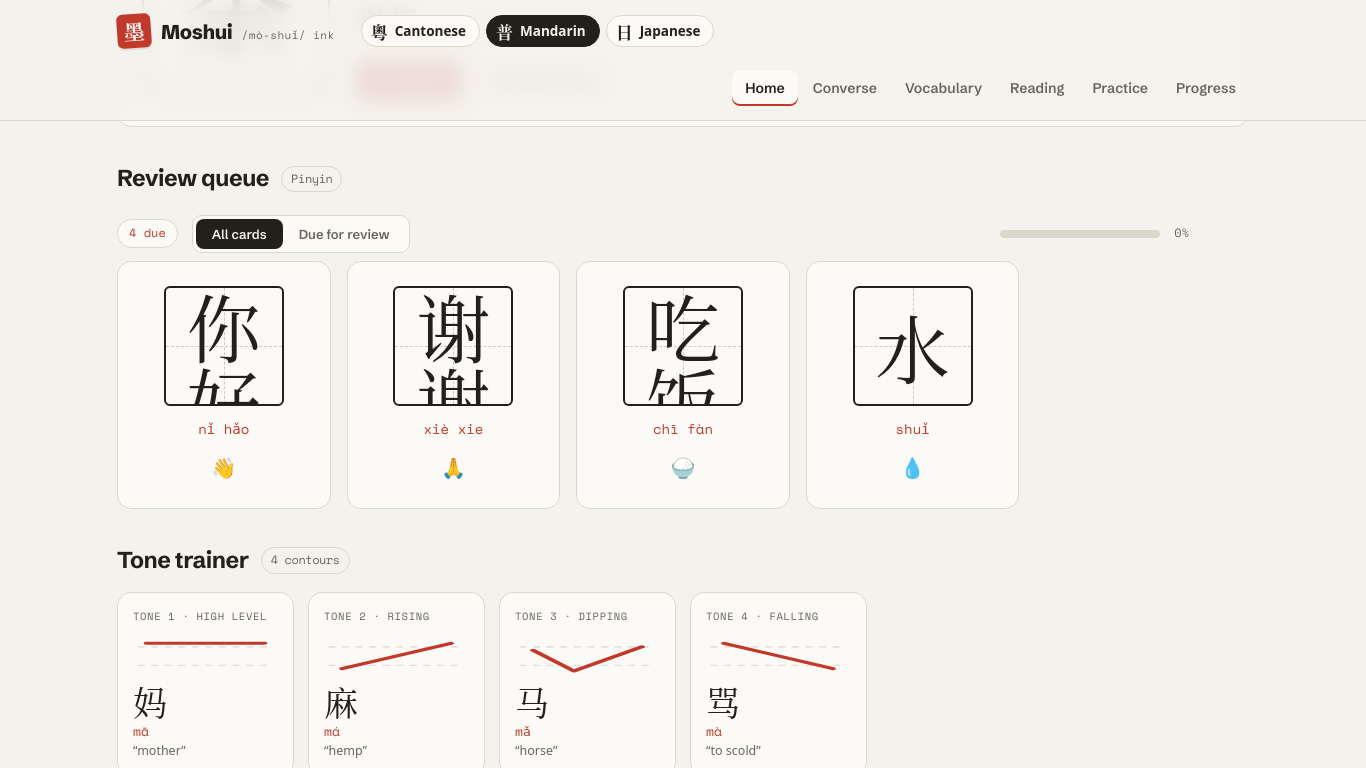
Test: accessibility (T4) › flip cards are real buttons that expose and toggle aria-expanded
(page scrolled)
Click the button with aria-label "Flashcard": click(224, 385) left=117, top=261, right=331, bottom=509
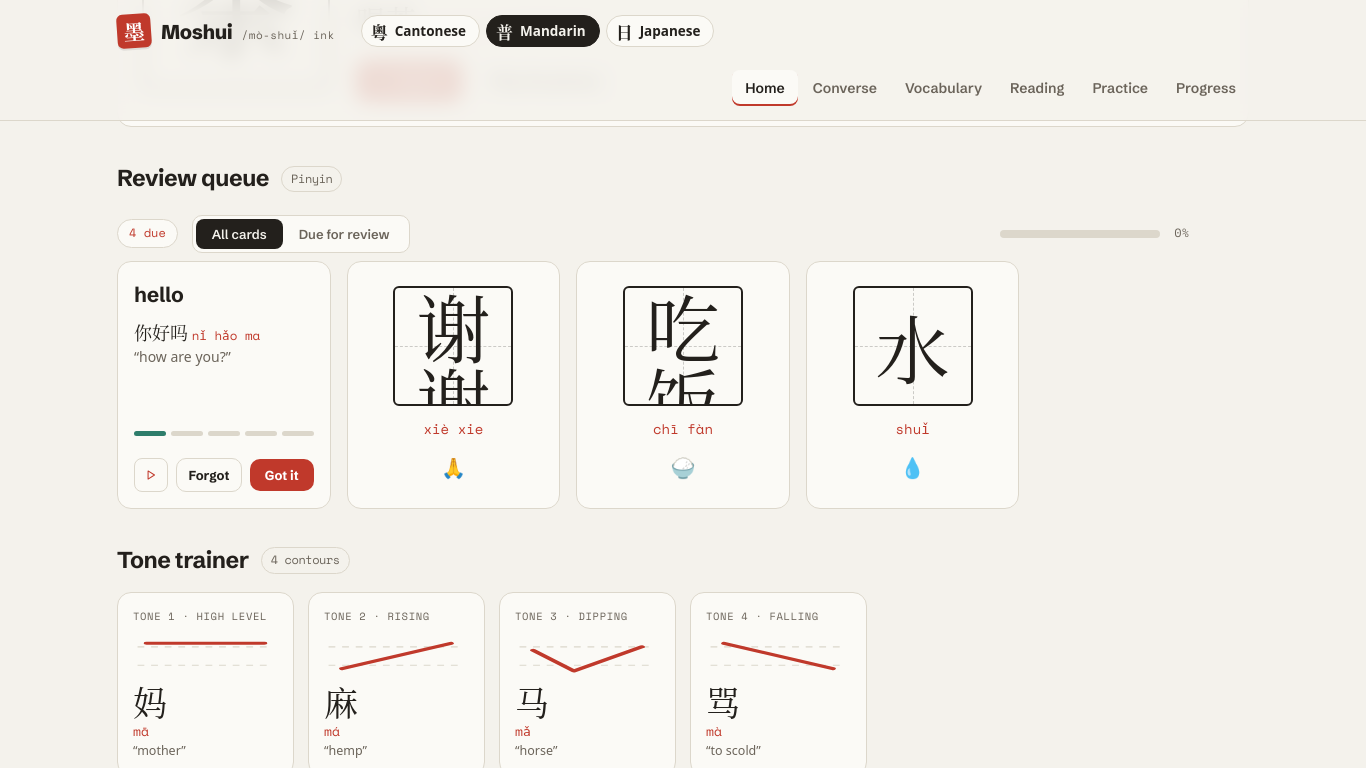
Result: the button with aria-label "Show character" is expanded at left=134, top=278, right=314, bottom=368
